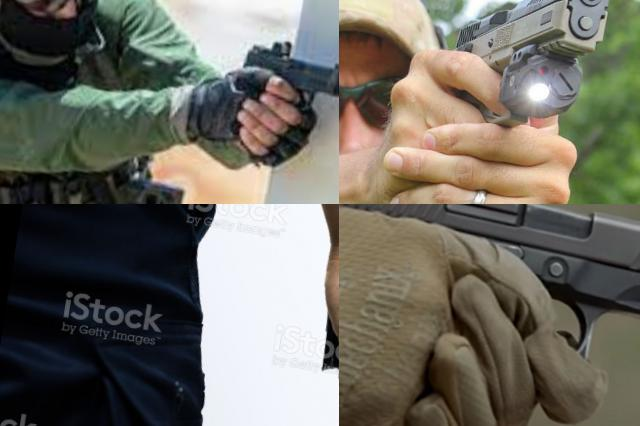handgun: (339, 204, 640, 407), (398, 0, 620, 204), (221, 31, 339, 183)
